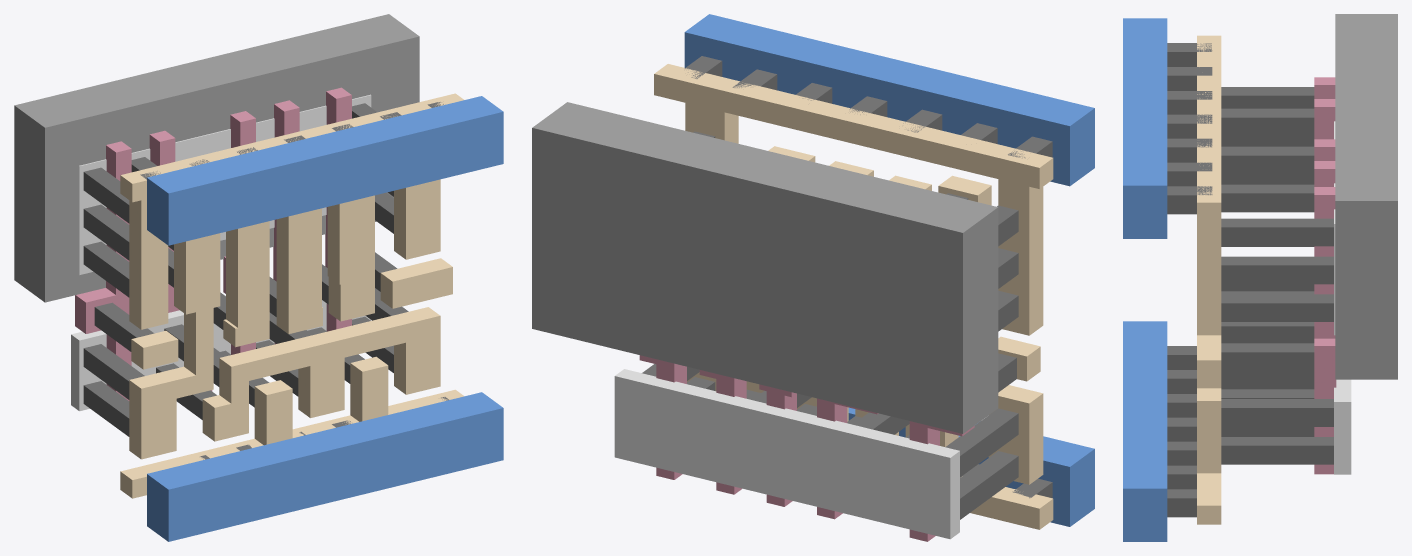
File: sky130_fd_sc_hd__o41ai_1.gds.gltf
3 views of the same model, side by side, from view 1: azimuth 30°, elevation 25°; view 2: azimuth 150°, elevation 25°; view 3: azimuth 270°, elevation 25° (orthographic). The views are drawn at different scales.
Visible parts, largest first — view 1: sky130_fd_sc_hd__o41ai_1_li1, sky130_fd_sc_hd__o41ai_1_met1, sky130_fd_sc_hd__o41ai_1_nwell, sky130_fd_sc_hd__o41ai_1_licon, sky130_fd_sc_hd__o41ai_1_poly, sky130_fd_sc_hd__o41ai_1_diff, sky130_fd_sc_hd__o41ai_1_mcon; view 2: sky130_fd_sc_hd__o41ai_1_nwell, sky130_fd_sc_hd__o41ai_1_diff, sky130_fd_sc_hd__o41ai_1_li1, sky130_fd_sc_hd__o41ai_1_met1, sky130_fd_sc_hd__o41ai_1_licon, sky130_fd_sc_hd__o41ai_1_poly, sky130_fd_sc_hd__o41ai_1_mcon; view 3: sky130_fd_sc_hd__o41ai_1_licon, sky130_fd_sc_hd__o41ai_1_nwell, sky130_fd_sc_hd__o41ai_1_met1, sky130_fd_sc_hd__o41ai_1_li1, sky130_fd_sc_hd__o41ai_1_mcon, sky130_fd_sc_hd__o41ai_1_poly, sky130_fd_sc_hd__o41ai_1_diff.
Part boxes in pixels (x1,y1,x2,y2): sky130_fd_sc_hd__o41ai_1_li1: (120, 93, 463, 498); sky130_fd_sc_hd__o41ai_1_met1: (147, 96, 503, 541); sky130_fd_sc_hd__o41ai_1_nwell: (14, 14, 419, 302); sky130_fd_sc_hd__o41ai_1_licon: (83, 103, 408, 436); sky130_fd_sc_hd__o41ai_1_poly: (75, 87, 351, 400); sky130_fd_sc_hd__o41ai_1_diff: (71, 94, 371, 411); sky130_fd_sc_hd__o41ai_1_mcon: (140, 102, 448, 459); sky130_fd_sc_hd__o41ai_1_nwell: (532, 102, 998, 433); sky130_fd_sc_hd__o41ai_1_diff: (614, 369, 959, 539); sky130_fd_sc_hd__o41ai_1_li1: (654, 64, 1053, 529); sky130_fd_sc_hd__o41ai_1_met1: (684, 14, 1094, 526); sky130_fd_sc_hd__o41ai_1_licon: (642, 131, 1018, 519); sky130_fd_sc_hd__o41ai_1_poly: (639, 355, 974, 541); sky130_fd_sc_hd__o41ai_1_mcon: (684, 56, 1052, 498); sky130_fd_sc_hd__o41ai_1_licon: (1221, 87, 1333, 464); sky130_fd_sc_hd__o41ai_1_nwell: (1335, 14, 1397, 379); sky130_fd_sc_hd__o41ai_1_met1: (1123, 18, 1167, 541); sky130_fd_sc_hd__o41ai_1_li1: (1197, 35, 1221, 524); sky130_fd_sc_hd__o41ai_1_mcon: (1167, 43, 1212, 517); sky130_fd_sc_hd__o41ai_1_poly: (1314, 77, 1336, 474); sky130_fd_sc_hd__o41ai_1_diff: (1334, 121, 1351, 474).
Size of the model in its own units: 3.6 by 3.2 by 2.24.
